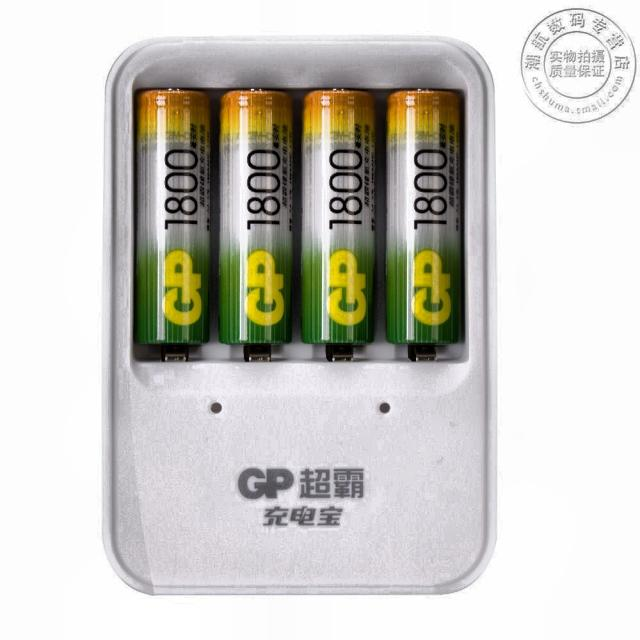Non-Valuable Waste - Batteries: (135, 89, 210, 344), (386, 90, 461, 344), (302, 90, 374, 346), (219, 90, 291, 344)
